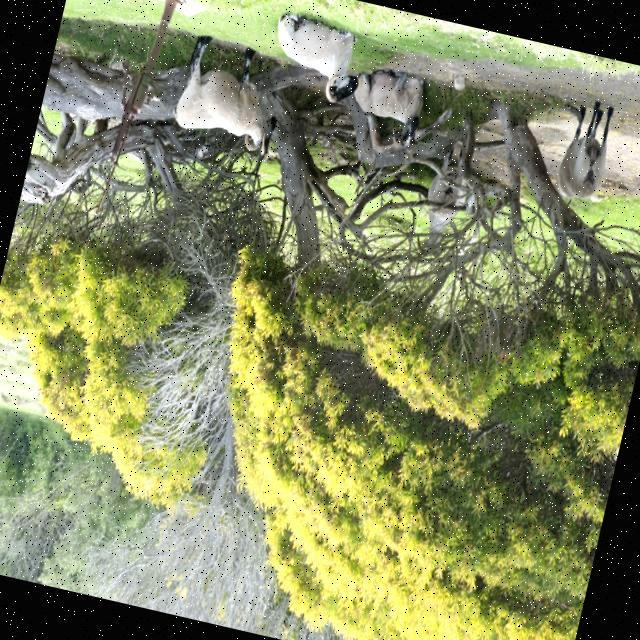sheep: (174, 38, 277, 151), (278, 18, 357, 103), (556, 103, 613, 199), (354, 70, 423, 147), (426, 158, 463, 243)
